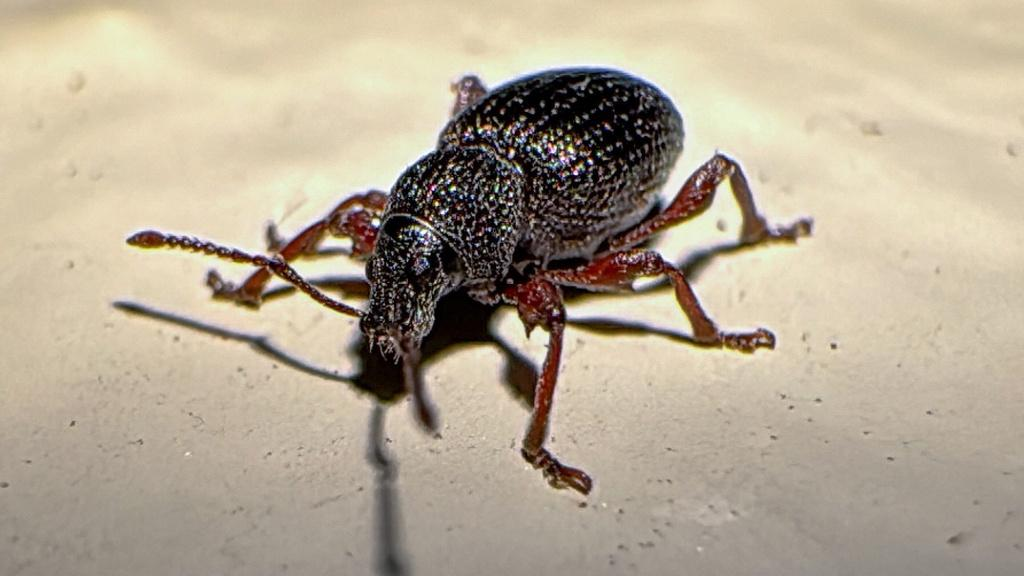weevils: (65, 0, 868, 561)
